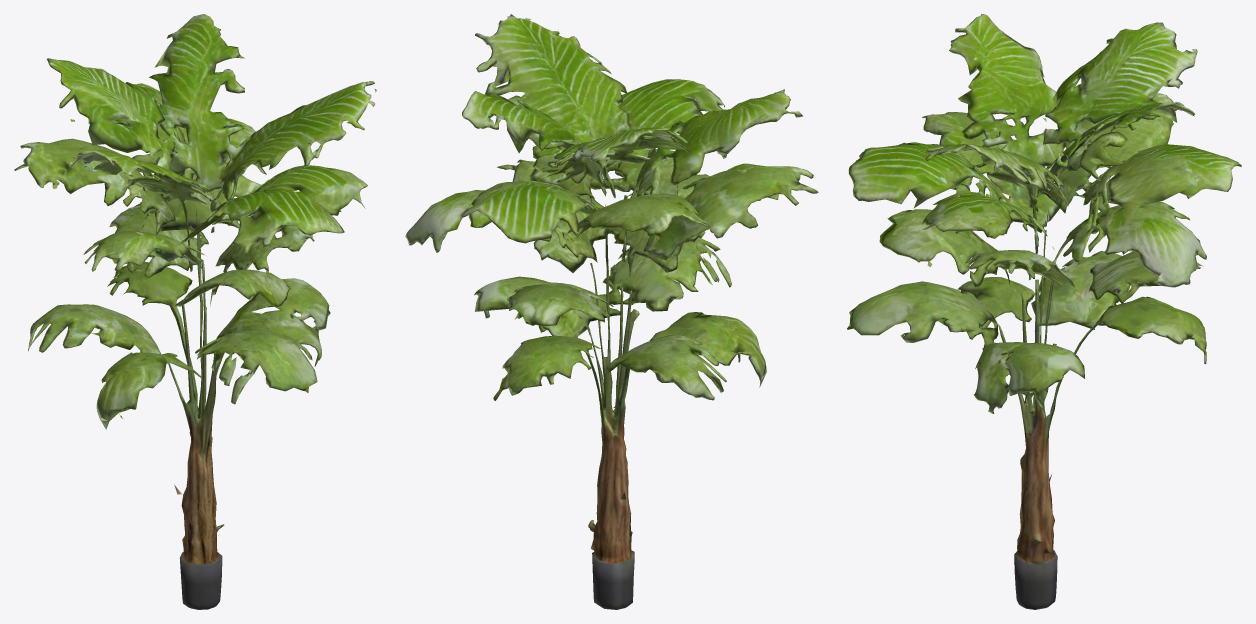
The model's file is Tropical_Serenity_0106102939_texture.glb.
3 views of the same model, side by side, from view 1: azimuth 30°, elevation 25°; view 2: azimuth 150°, elevation 25°; view 3: azimuth 270°, elevation 25° (orthographic). The views are drawn at different scales.
Bounding box in the file's own units: 1.24 × 1.98 × 1.32.
1 material, 1 textured.
